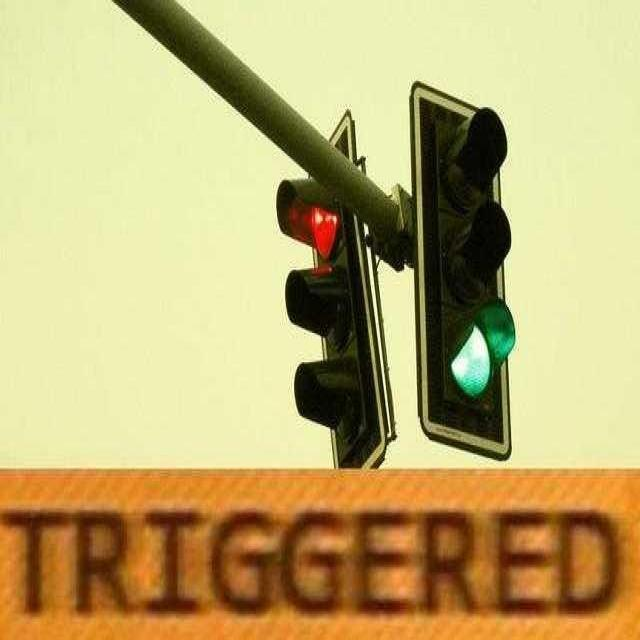traffic light: (275, 112, 395, 470), (410, 80, 517, 460), (276, 108, 358, 261)
